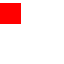square: (0, 3, 20, 23)
